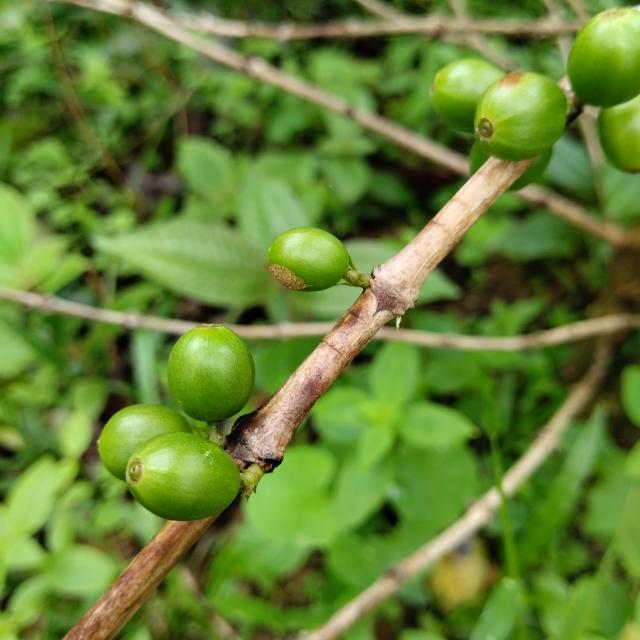green: (125, 433, 241, 522), (167, 324, 255, 423), (475, 71, 568, 161), (98, 405, 192, 482), (568, 7, 640, 107), (430, 58, 506, 132), (268, 226, 349, 291)
